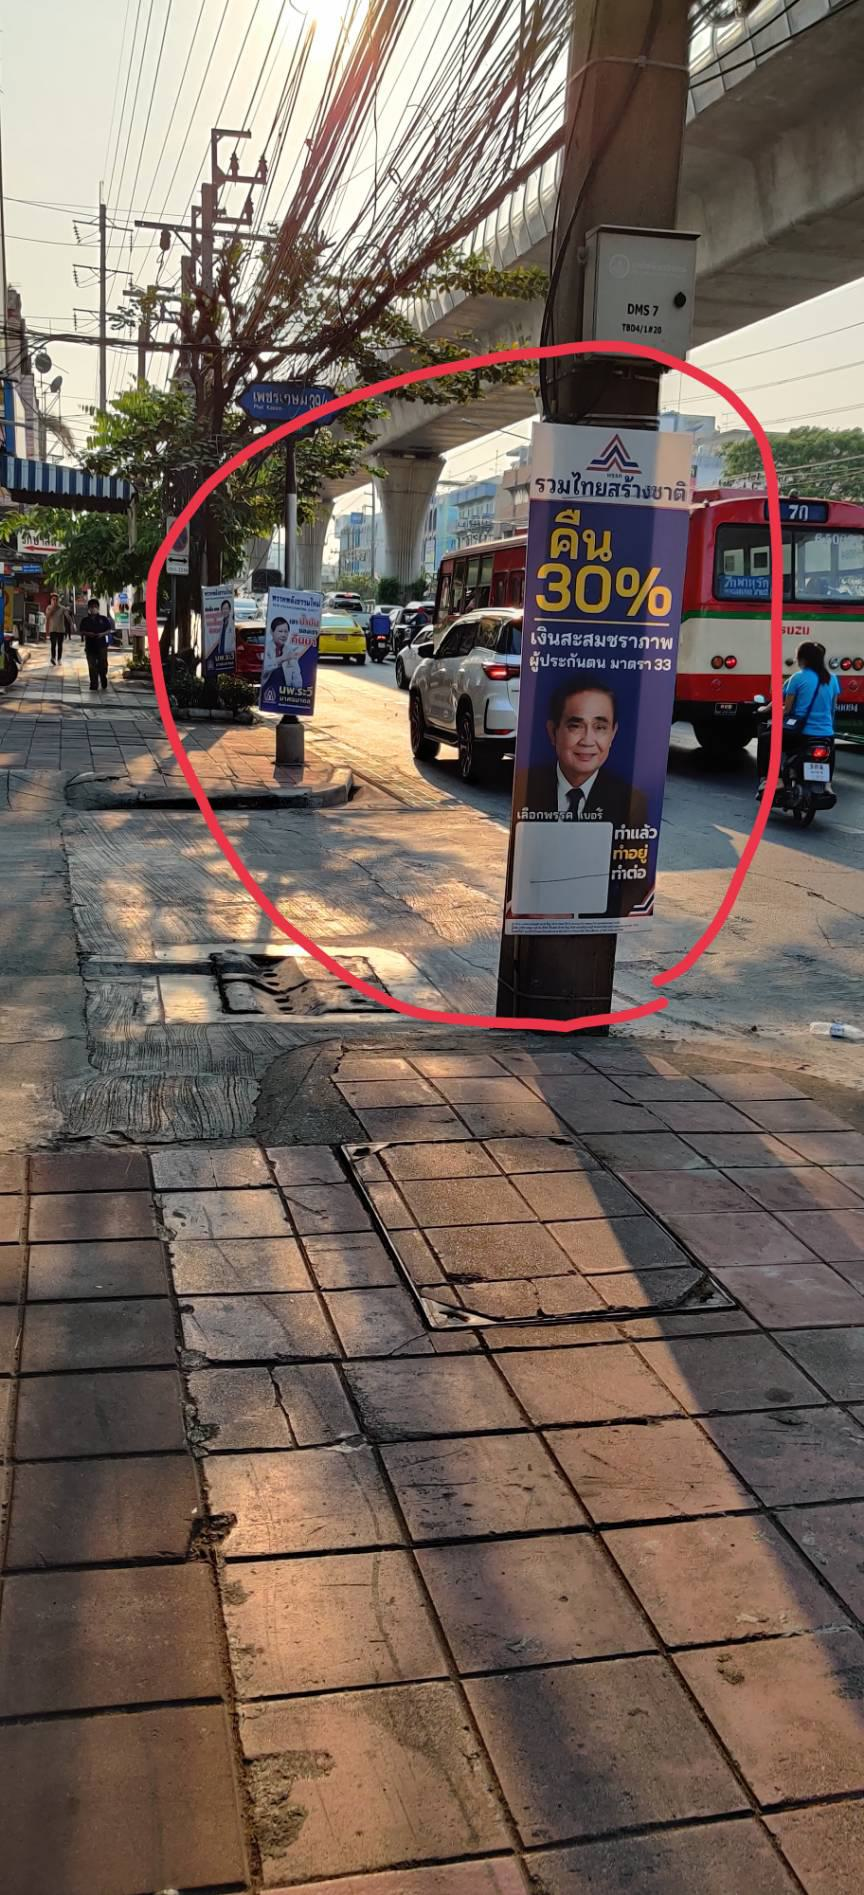Banner: (485, 415, 714, 943)
